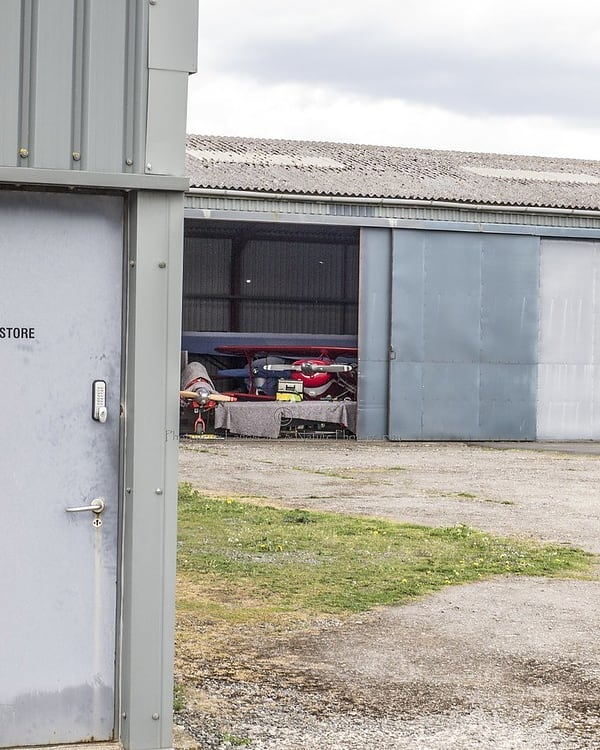building: (156, 127, 592, 441)
door: (1, 186, 139, 750)
sky: (199, 1, 587, 147)
